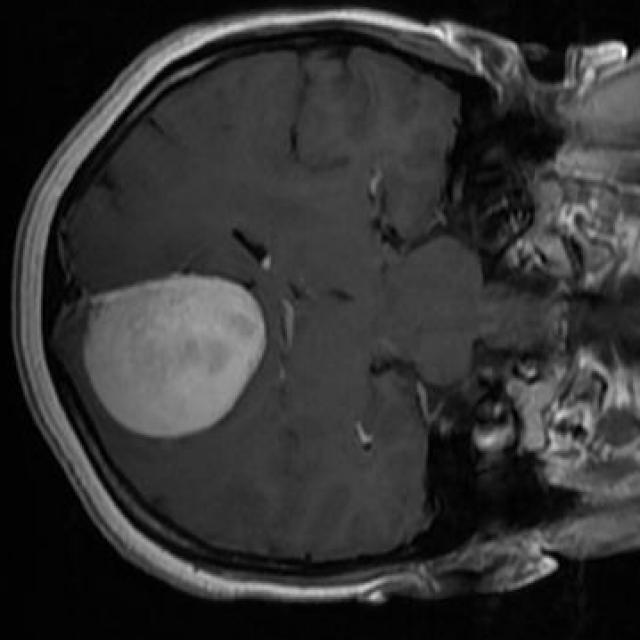meningioma: (84, 275, 266, 439)
